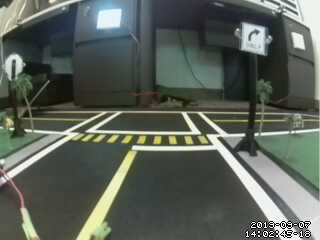Right_only_sign: (237, 23, 269, 58)
